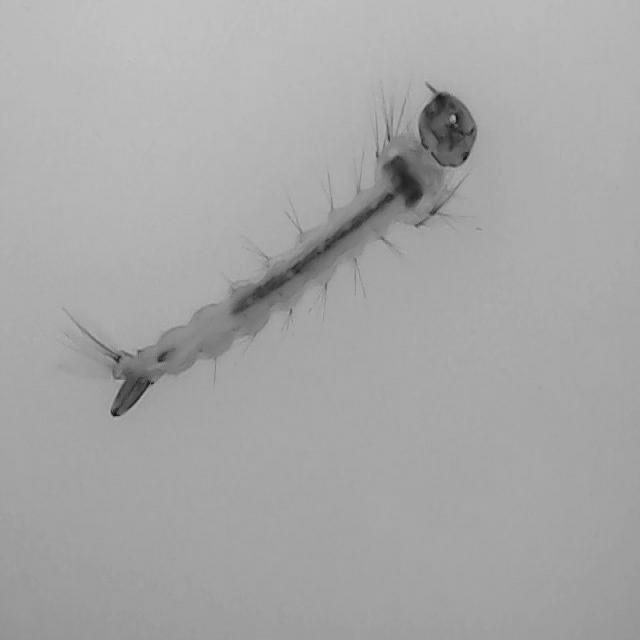larvas: (106, 84, 472, 418)
